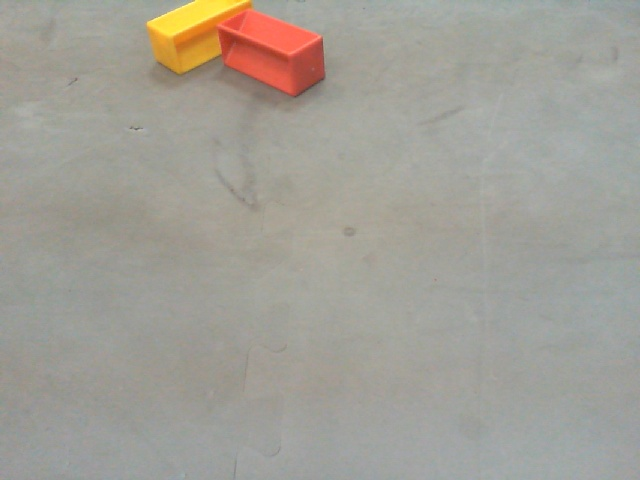RedSample: (217, 8, 326, 99)
YellowSample: (143, 1, 254, 77)
